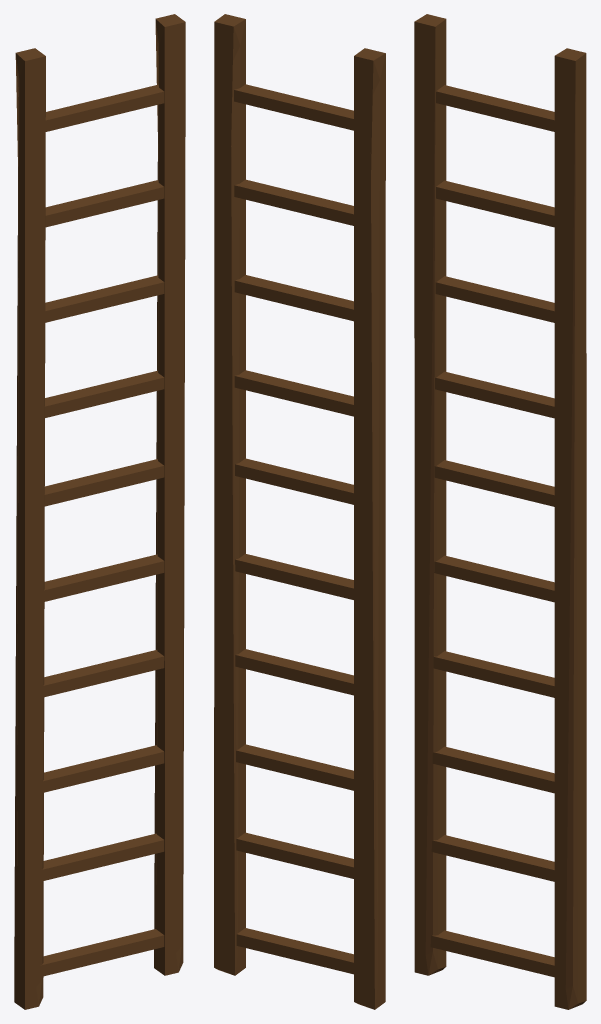
File: SM_ladder.fbx
The picture shows the model from 3 angles, left to right: view 1: azimuth 30°, elevation 25°; view 2: azimuth 150°, elevation 25°; view 3: azimuth 330°, elevation 25°; orthographic projection.
Parts seen in each view (by area): view 1: Box364; view 2: Box364; view 3: Box364.
Part boxes in pixels (x1,y1,x2,y2): Box364: [14, 14, 185, 1009]; Box364: [214, 14, 385, 1009]; Box364: [414, 14, 586, 1009].
Bounding box in the file's own units: 26.07 × 147 × 3.07.
